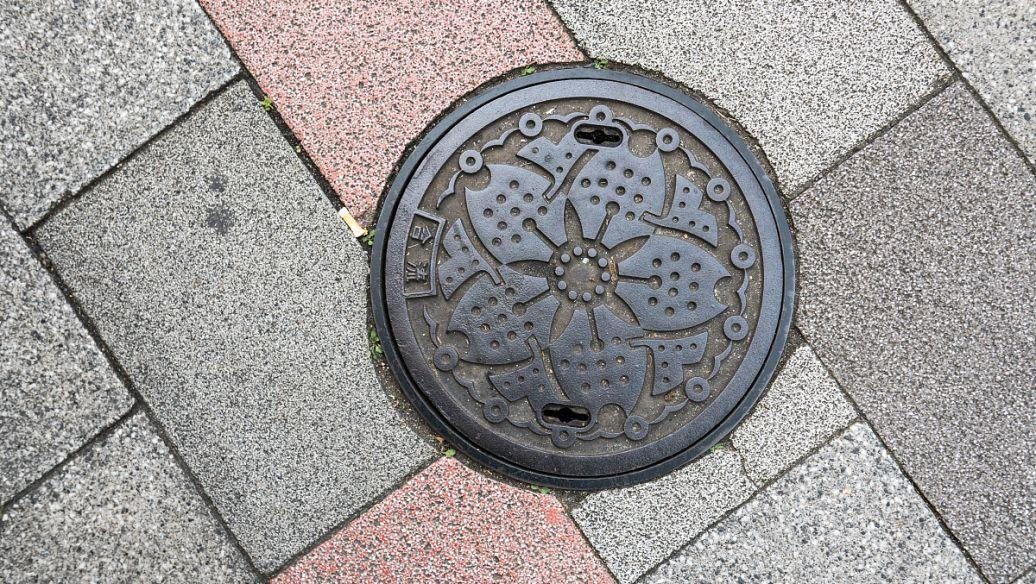wellcover: (357, 54, 814, 491)
